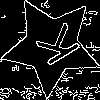K: (26, 21, 82, 74)
